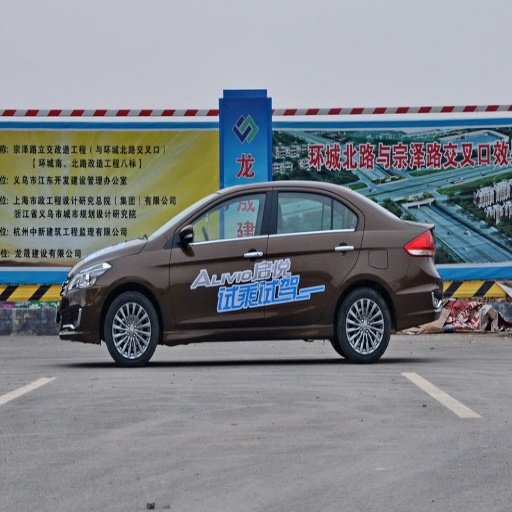back_bumper: (395, 284, 443, 331)
back_left_door: (266, 188, 361, 323)
front_left_door: (169, 188, 269, 327)
